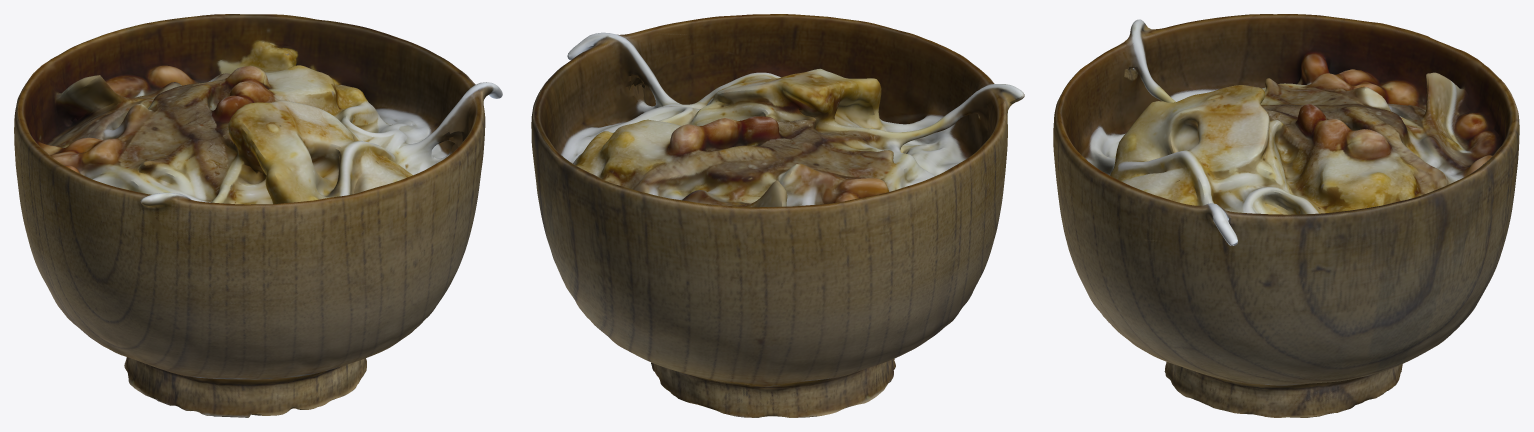
Rendered from RiceNoodle.glb.
3 views of the same model, side by side, from view 1: azimuth 30°, elevation 25°; view 2: azimuth 150°, elevation 25°; view 3: azimuth 270°, elevation 25° (orthographic).
Visible parts, largest first — view 1: RiceNoodle_LP; view 2: RiceNoodle_LP; view 3: RiceNoodle_LP.
Part boxes in pixels (x1,y1,x2,y2): RiceNoodle_LP: (14,14,502,417); RiceNoodle_LP: (531,14,1024,417); RiceNoodle_LP: (1053,14,1519,417).
Bounding box in the file's own units: 30.25 × 18.37 × 28.3.
Materials: 1 (1 with a texture image).
